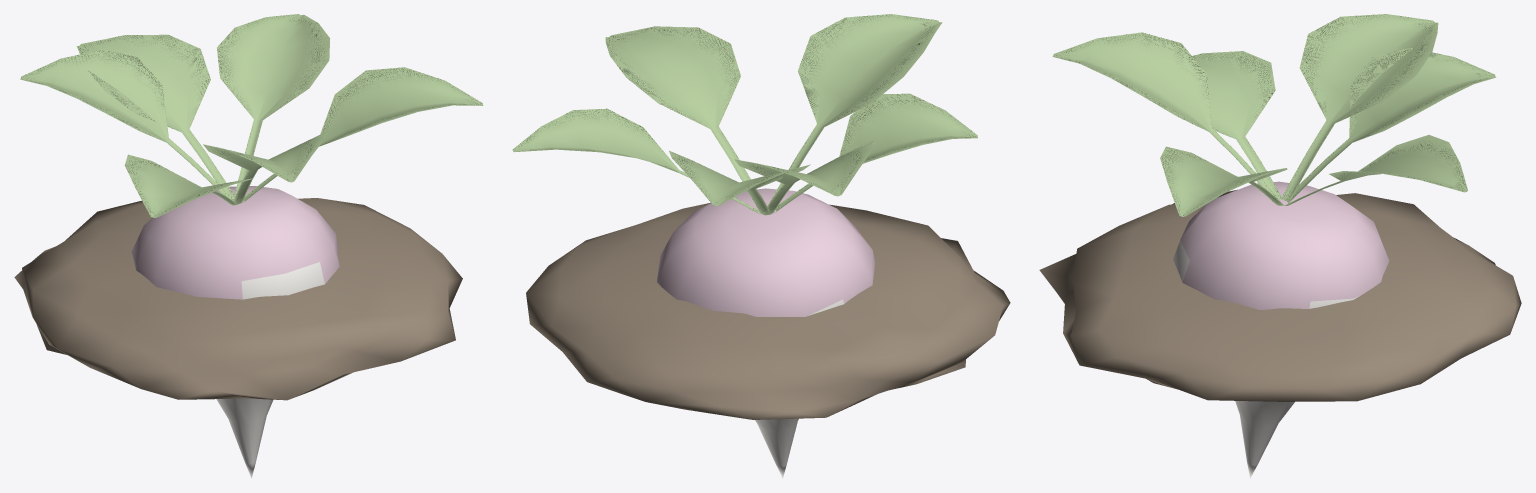
The model's file is RainTurnip_Node_A.fbx.
3 renders of one model, left to right at view 1: azimuth 30°, elevation 25°; view 2: azimuth 150°, elevation 25°; view 3: azimuth 270°, elevation 25°, orthographic. The views are drawn at different scales.
Parts seen in each view (by area): view 1: RainTurnip_Node_A; view 2: RainTurnip_Node_A; view 3: RainTurnip_Node_A.
Boxes of the visible parts, box(x1,y1,x2,y2) form: RainTurnip_Node_A: box(14, 14, 483, 478); RainTurnip_Node_A: box(512, 14, 1010, 478); RainTurnip_Node_A: box(1039, 14, 1521, 478).
Bounding box in the file's own units: 0.578 × 0.5398 × 0.583.
